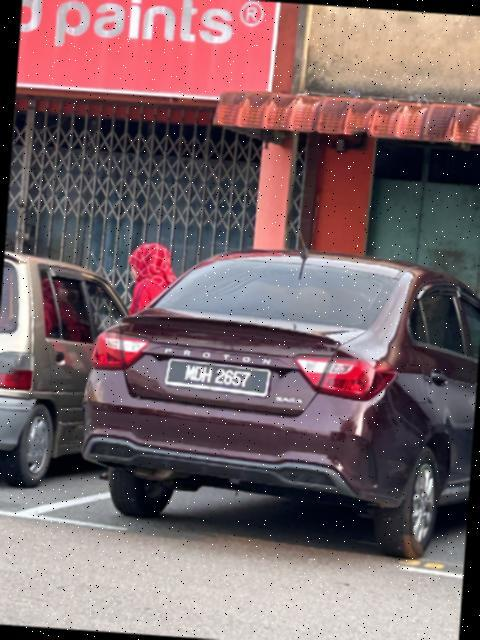License_Plate: (164, 359, 275, 399)
MDH2657: (164, 359, 275, 399)
car: (69, 236, 480, 575)
